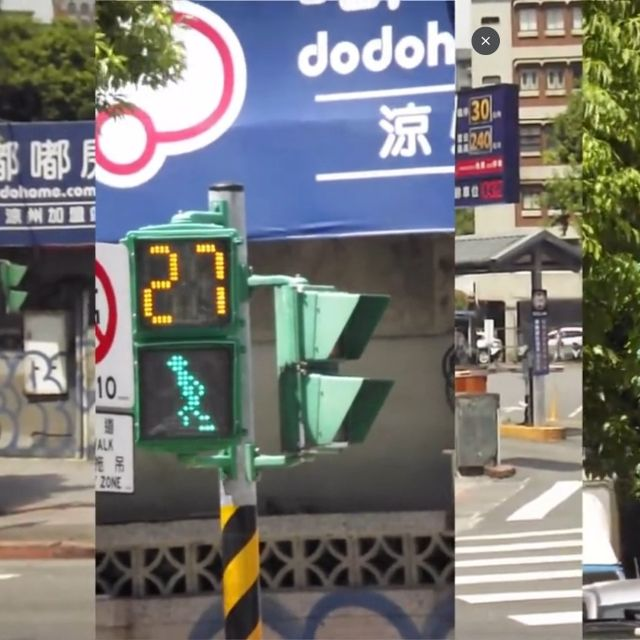green_light: (127, 233, 242, 444)
